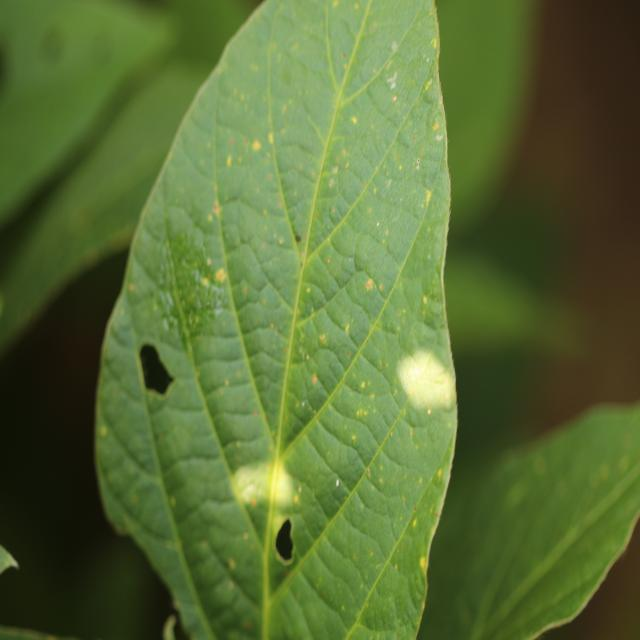Soybean: (92, 0, 459, 640)
downey_mildew: (163, 197, 281, 487), (214, 7, 313, 293), (333, 50, 440, 279), (318, 359, 437, 545), (294, 265, 401, 447), (296, 478, 414, 638), (165, 468, 276, 637), (263, 3, 347, 218), (198, 183, 294, 338), (218, 195, 298, 345), (335, 2, 430, 122), (193, 346, 271, 458), (101, 369, 170, 487), (166, 92, 224, 225), (298, 410, 374, 502), (149, 393, 231, 471), (350, 562, 419, 636), (320, 3, 368, 100), (349, 229, 401, 296), (278, 165, 319, 236), (301, 344, 350, 403), (297, 247, 343, 307), (206, 406, 268, 448), (312, 472, 348, 520), (329, 17, 356, 67)
